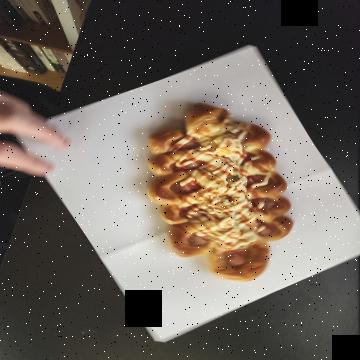pizza_bread: (101, 60, 280, 218)
